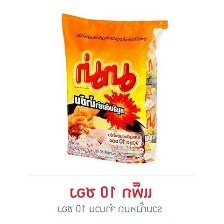snack: (55, 6, 177, 167)
